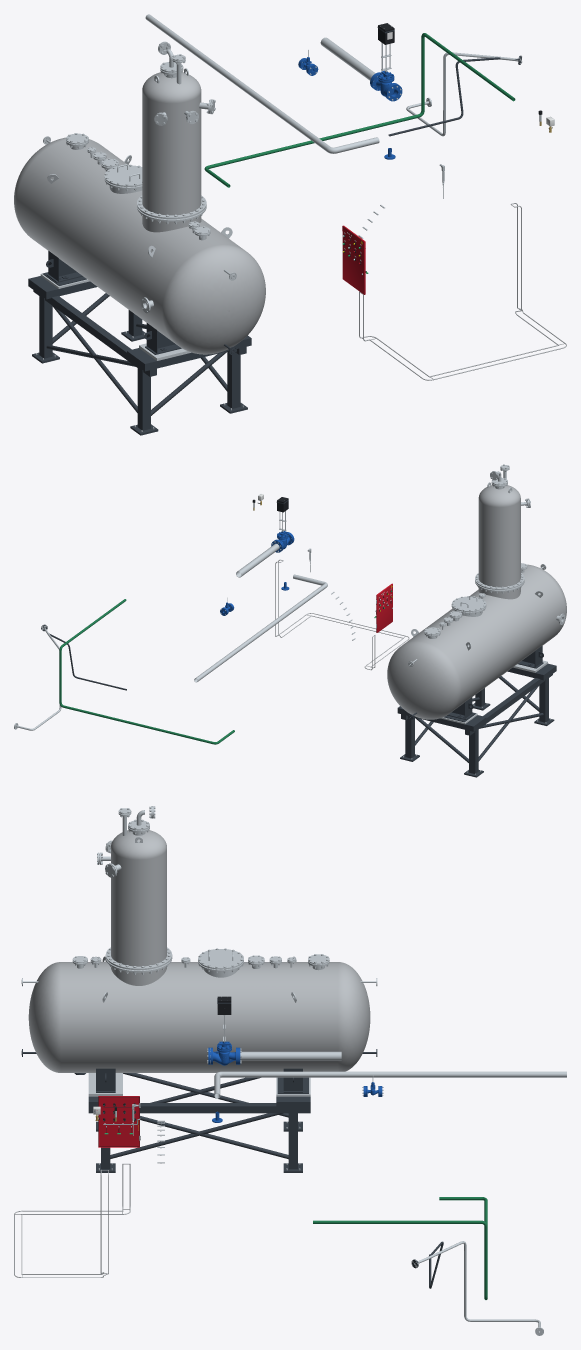
File: s4000-1-yASFpJ4X.glb
3 renders of one model, top to bottom at view 1: azimuth 30°, elevation 25°; view 2: azimuth 150°, elevation 25°; view 3: azimuth 270°, elevation 25°, orthographic. The views are drawn at different scales.
Visible parts, largest first — view 1: deaerator CAD solid 56, deaerator_support / dark, deaerator CAD solid 257, safety_vent_1 / steel, to_economizer / green, cabinet_door / cabinet_door_5.npz, cables / zinc, trap_gap_to_bdv / steel, deaerator CAD solid 408, steam_delivery / steel, deaerator_support / steel; view 2: deaerator CAD solid 56, deaerator_support / dark, deaerator CAD solid 257, safety_vent_1 / steel, to_economizer / green, cables / zinc, cabinet_door / cabinet_door_5.npz, deaerator CAD solid 408; view 3: deaerator CAD solid 56, deaerator CAD solid 257, deaerator_support / dark, safety_vent_1 / steel, cabinet_door / cabinet_door_5.npz, to_economizer / green, cables / zinc, steam_delivery / steel, deaerator CAD solid 408, trap_gap_to_bdv / steel, deaerator_support / steel.
Part boxes in pixels (<box>): deaerator CAD solid 56: <box>14,137,265,354</box>; deaerator_support / dark: <box>28,276,251,435</box>; deaerator CAD solid 257: <box>142,72,201,215</box>; safety_vent_1 / steel: <box>145,14,379,153</box>; to_economizer / green: <box>204,33,515,187</box>; cabinet_door / cabinet_door_5.npz: <box>342,225,365,294</box>; cables / zinc: <box>359,203,566,380</box>; trap_gap_to_bdv / steel: <box>406,52,522,136</box>; deaerator CAD solid 408: <box>104,165,142,186</box>; steam_delivery / steel: <box>320,37,375,80</box>; deaerator_support / steel: <box>36,273,243,431</box>; deaerator CAD solid 56: <box>387,564,566,719</box>; deaerator_support / dark: <box>397,663,556,777</box>; deaerator CAD solid 257: <box>478,485,520,587</box>; safety_vent_1 / steel: <box>194,574,327,682</box>; to_economizer / green: <box>59,599,234,744</box>; cables / zinc: <box>275,559,409,670</box>; cabinet_door / cabinet_door_5.npz: <box>376,583,392,632</box>; deaerator CAD solid 408: <box>451,596,486,611</box>; deaerator CAD solid 56: <box>28,962,370,1072</box>; deaerator CAD solid 257: <box>111,830,166,966</box>; deaerator_support / dark: <box>88,1073,310,1172</box>; safety_vent_1 / steel: <box>214,1071,566,1098</box>; cabinet_door / cabinet_door_5.npz: <box>98,1096,140,1147</box>; to_economizer / green: <box>313,1197,487,1299</box>; cables / zinc: <box>14,1163,130,1277</box>; steam_delivery / steel: <box>240,1051,341,1060</box>; deaerator CAD solid 408: <box>198,949,243,969</box>; trap_gap_to_bdv / steel: <box>411,1241,543,1335</box>; deaerator_support / steel: <box>88,1073,310,1170</box>.
Bounding box in the file's own units: 7.8 × 4.82 × 7.07.
